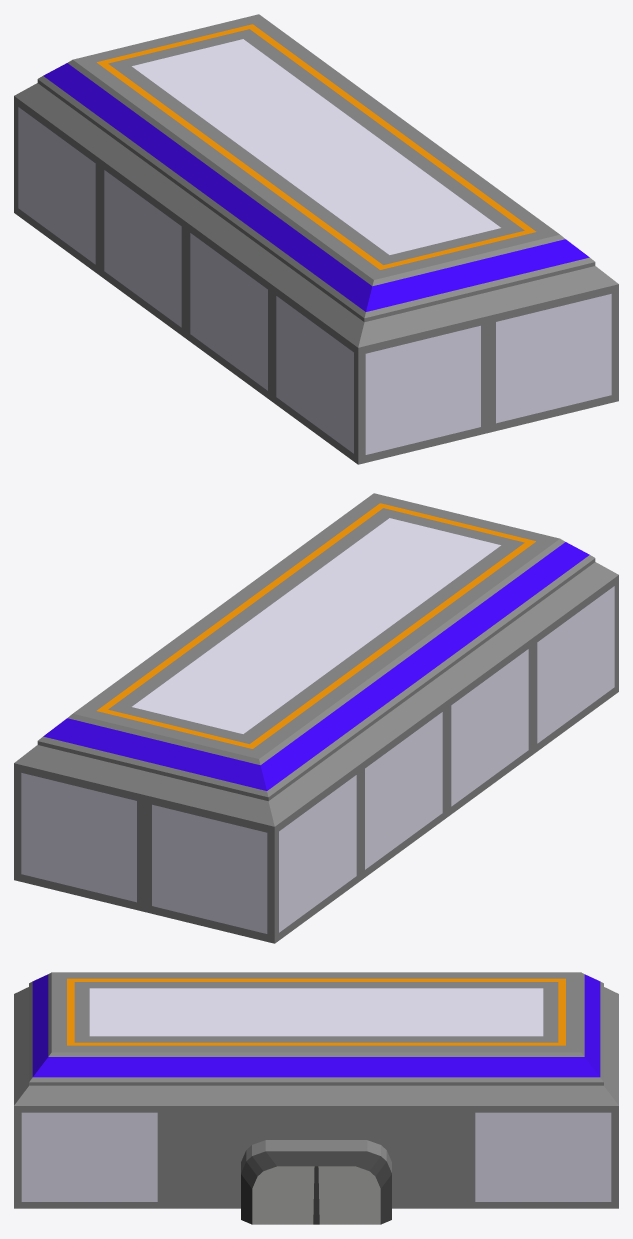
File: Environment_B_Placement.fbx
3 renders of one model, top to bottom at view 1: azimuth 30°, elevation 25°; view 2: azimuth 150°, elevation 25°; view 3: azimuth 270°, elevation 25°, orthographic. The views are drawn at different scales.
Visible parts, largest first — view 1: Cube; view 2: Cube; view 3: Cube.
Boxes of the visible parts, x1,y1,x2,y2 form: Cube: [14, 14, 618, 464]; Cube: [14, 493, 618, 943]; Cube: [14, 972, 618, 1224].
Bounding box in the file's own units: 2 × 1.03 × 4.
